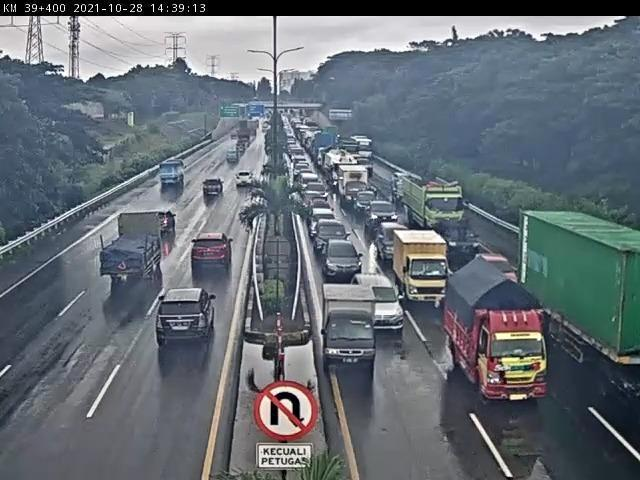car: (150, 282, 224, 356), (352, 264, 411, 334), (183, 232, 241, 284), (318, 239, 365, 285), (440, 216, 483, 266), (309, 219, 351, 259), (478, 246, 516, 286), (377, 223, 414, 260), (368, 200, 403, 235), (195, 175, 232, 205), (350, 188, 386, 215), (232, 168, 258, 188)
truck: (514, 203, 640, 412), (440, 247, 563, 407), (312, 274, 386, 377), (102, 205, 181, 294), (389, 226, 446, 306), (401, 172, 467, 232), (157, 157, 190, 190)
